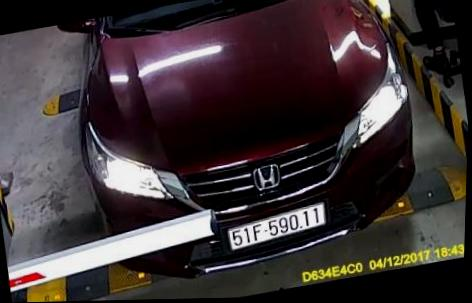License_Plate: (222, 204, 337, 251)
